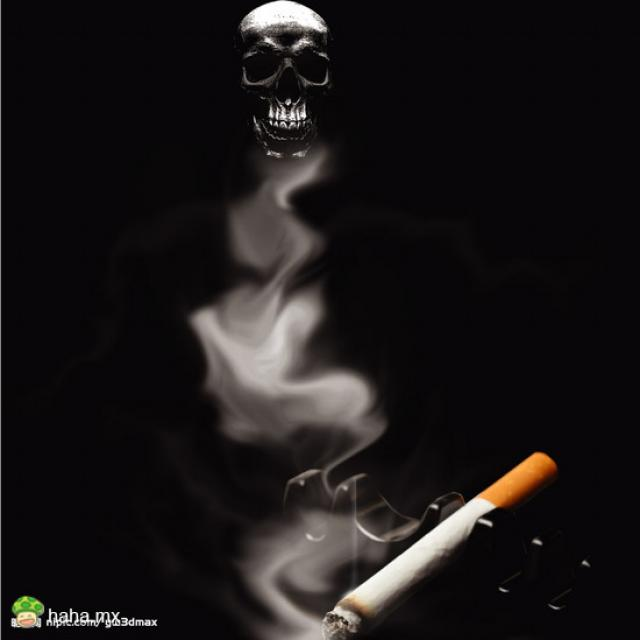cigarette: (322, 451, 563, 638)
